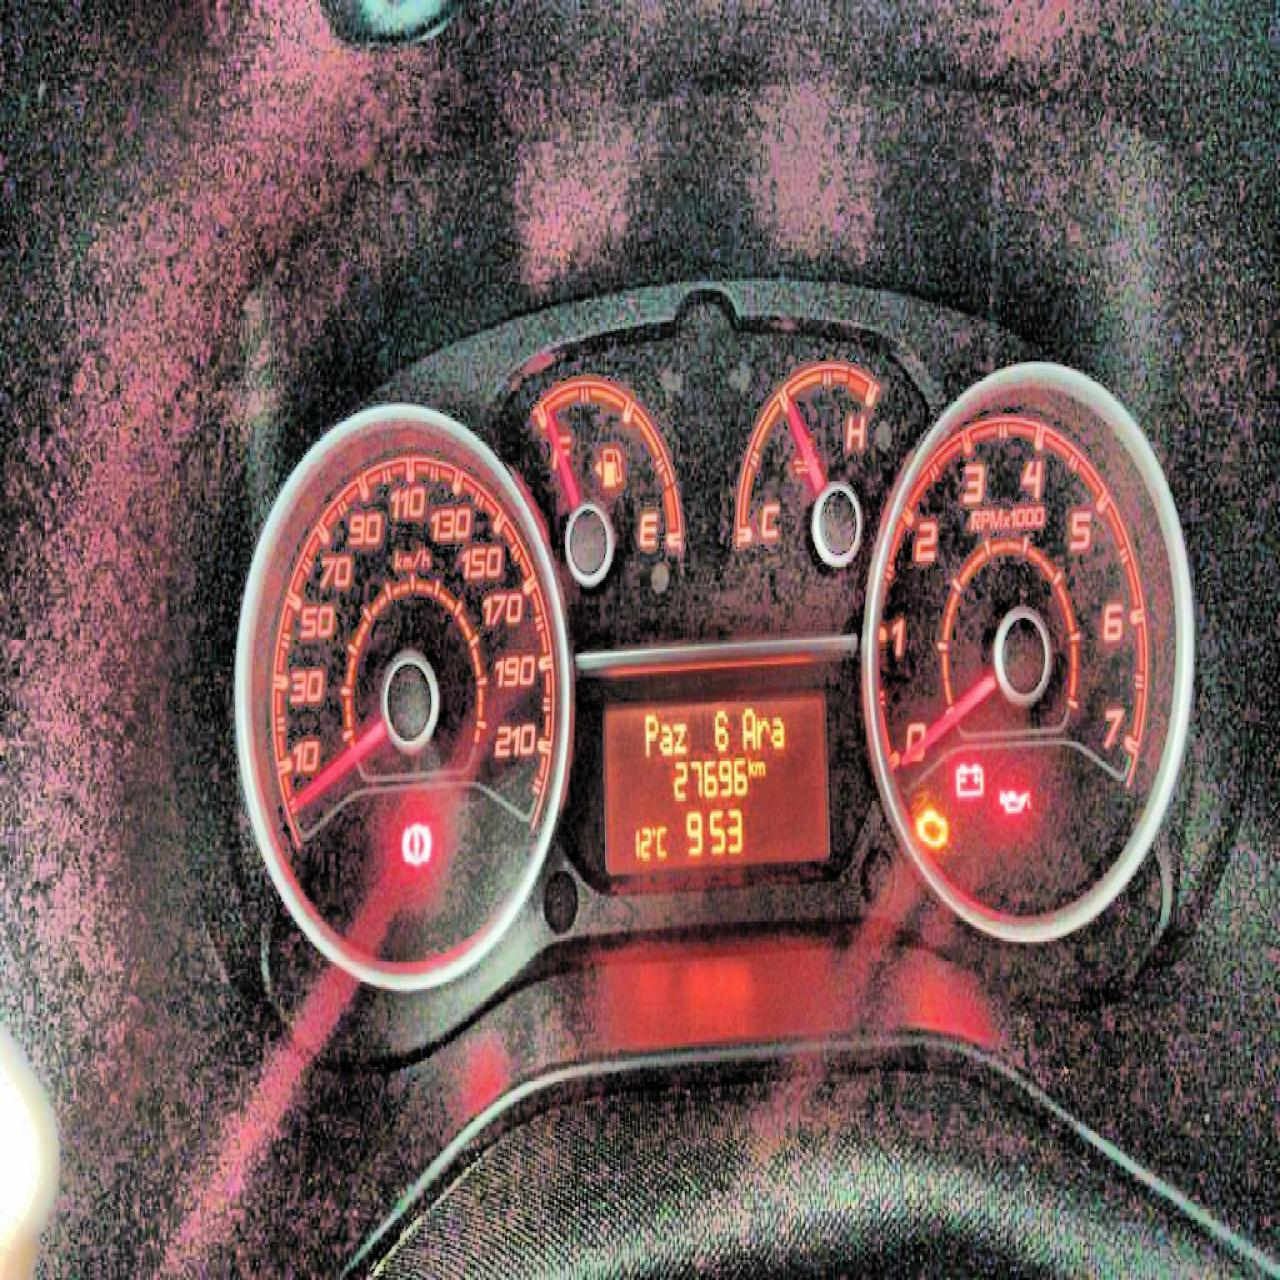1: (632, 824, 639, 859)
2: (672, 756, 687, 797), (639, 824, 651, 859)
3: (727, 804, 742, 856)
5: (708, 804, 723, 856)
6: (713, 707, 728, 751), (731, 754, 747, 796), (702, 756, 716, 796)
7: (688, 756, 701, 797)
9: (683, 806, 702, 856), (717, 756, 731, 796)
X: (642, 709, 658, 758), (740, 704, 755, 751), (672, 717, 687, 754), (769, 713, 783, 749), (755, 713, 769, 749), (658, 720, 672, 756), (655, 822, 666, 858), (754, 757, 765, 776), (748, 754, 754, 778)
odometer: (599, 682, 831, 885)
